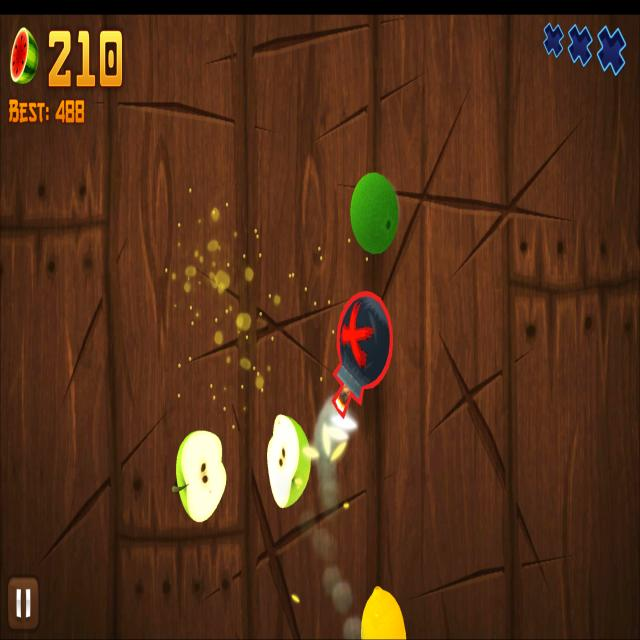bomb: (331, 290, 395, 420)
fruit: (350, 172, 400, 255), (360, 583, 407, 640)
